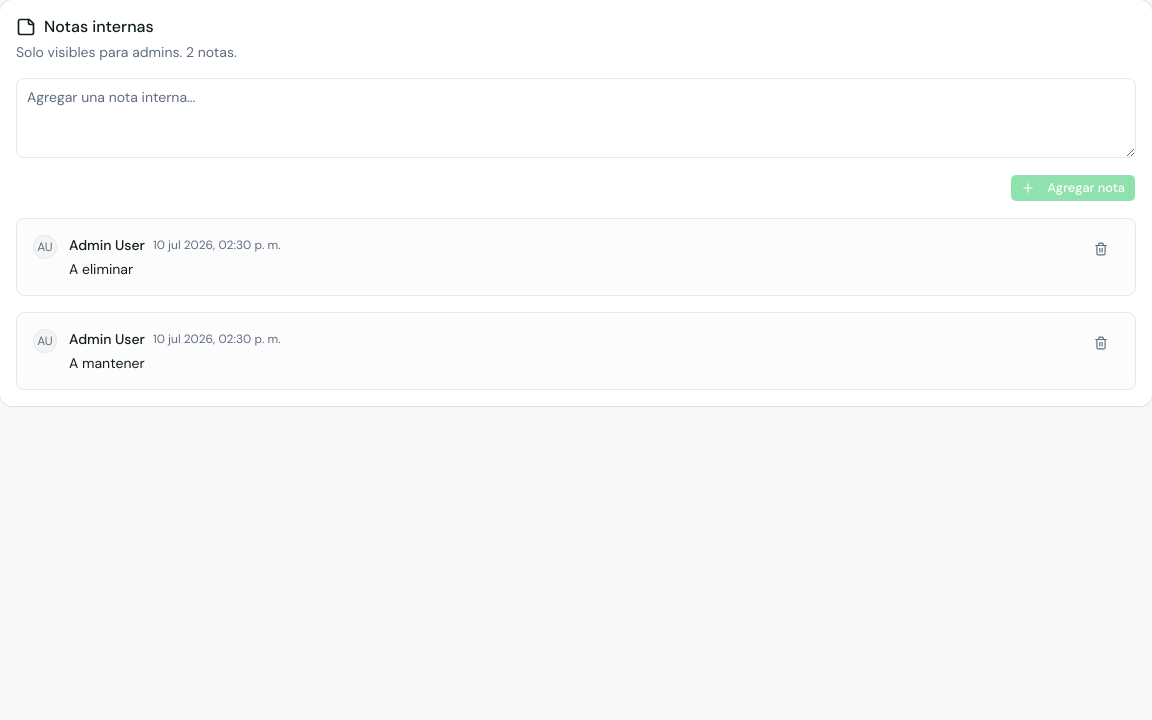
it: AdminOwnerNotes › elimina una nota y la remueve de la lista
Expected: the text "A eliminar" is shown, [69,260,133,278]
Expected: the text "A mantener" is shown, [69,354,145,372]
# Click en el botón eliminar (Trash2) de la primera nota
What coordinates should you click on to do the following:
click the button without text in the row of "A eliminar"
I would click on:
 (1101, 249)
Its box is [1083,235,1119,263].
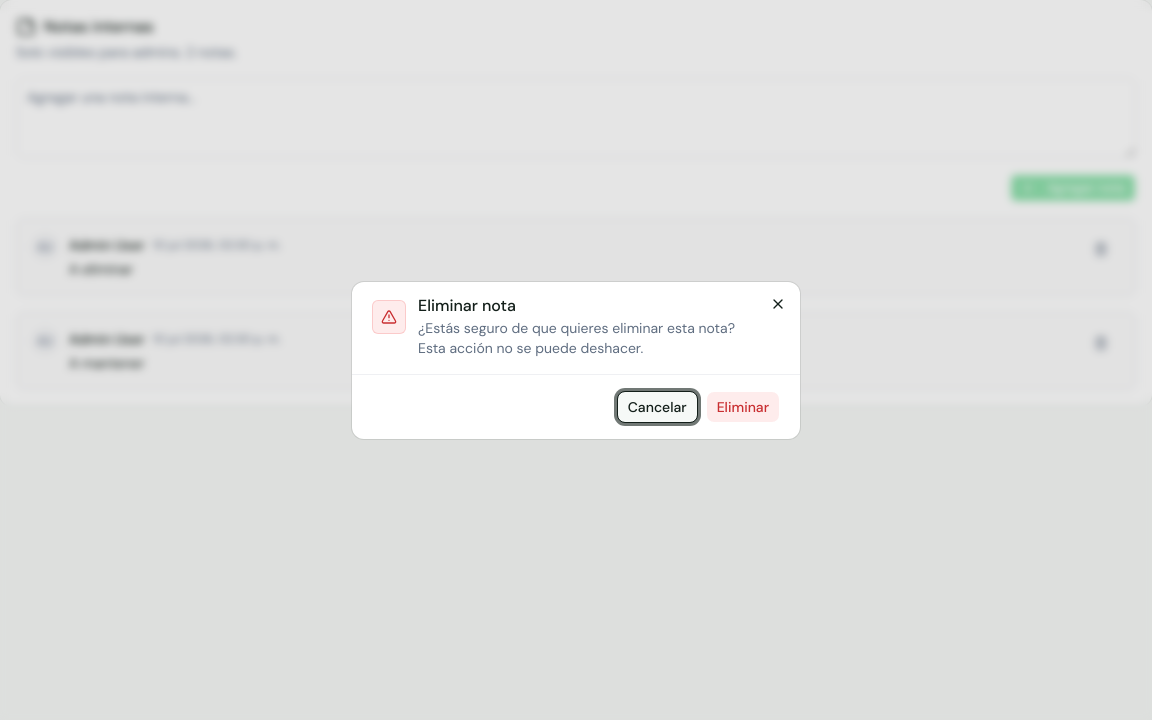
Result: the text "¿Estás seguro" is shown at [418,318,735,356]
# Click en Eliminar del ConfirmDialog
What coordinates should you click on to do the following:
click the button "Eliminar"
I would click on:
 (743, 406)
Its box is [706,390,780,422].
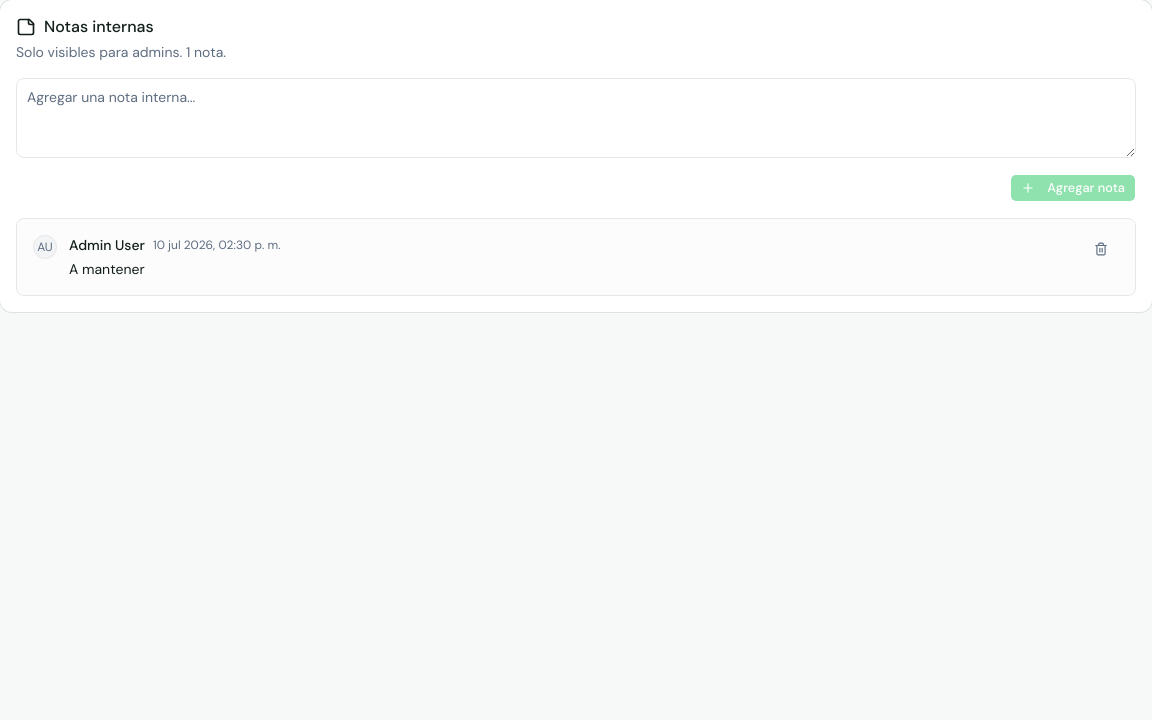
Expected: the text "A mantener" is shown, [69,260,145,278]
Result: the text "A eliminar" is gone
